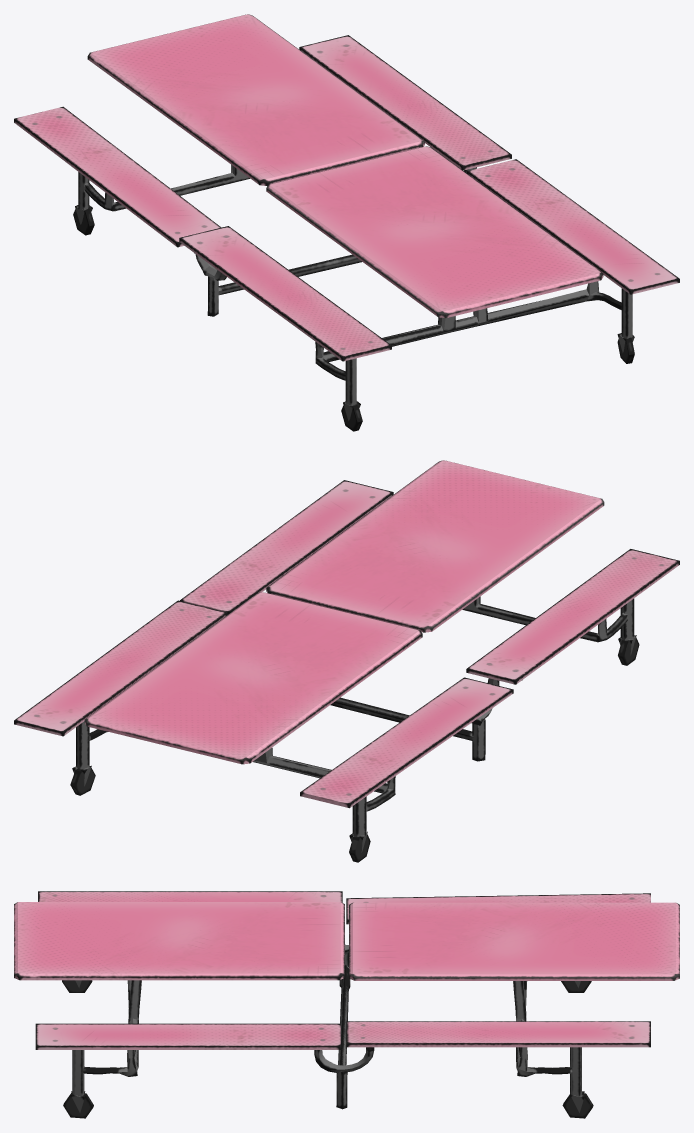
Rendered from PinkBench.glb.
The picture shows the model from 3 angles, top to bottom: view 1: azimuth 30°, elevation 25°; view 2: azimuth 150°, elevation 25°; view 3: azimuth 270°, elevation 25°; orthographic projection. The views are drawn at different scales.
Visible parts, largest first — view 1: Bench; view 2: Bench; view 3: Bench.
Part boxes in pixels (bbox=[...]): Bench: bbox=[14, 14, 679, 431]; Bench: bbox=[14, 460, 679, 862]; Bench: bbox=[14, 891, 679, 1118].
Size of the model in its own units: 6.46 by 2.3 by 11.91.
1 material, 1 textured.
